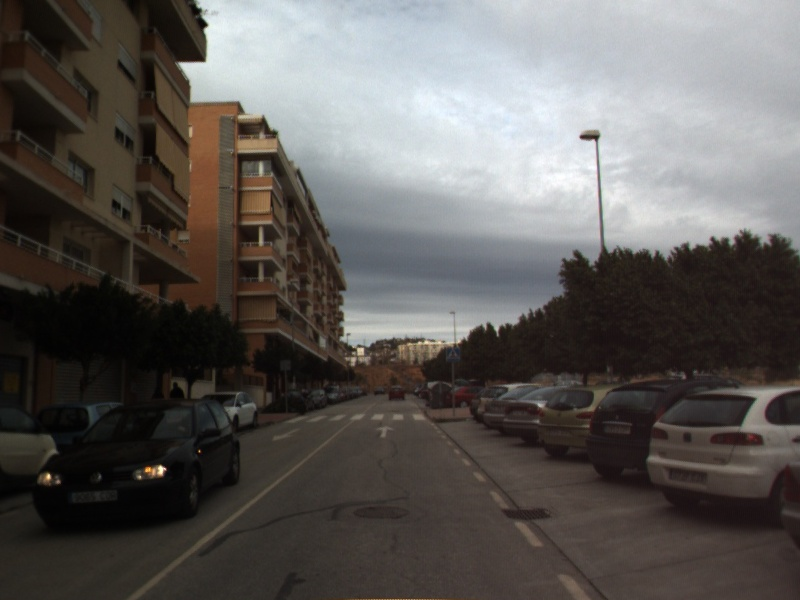STRAIGHT: (374, 424, 397, 440)
